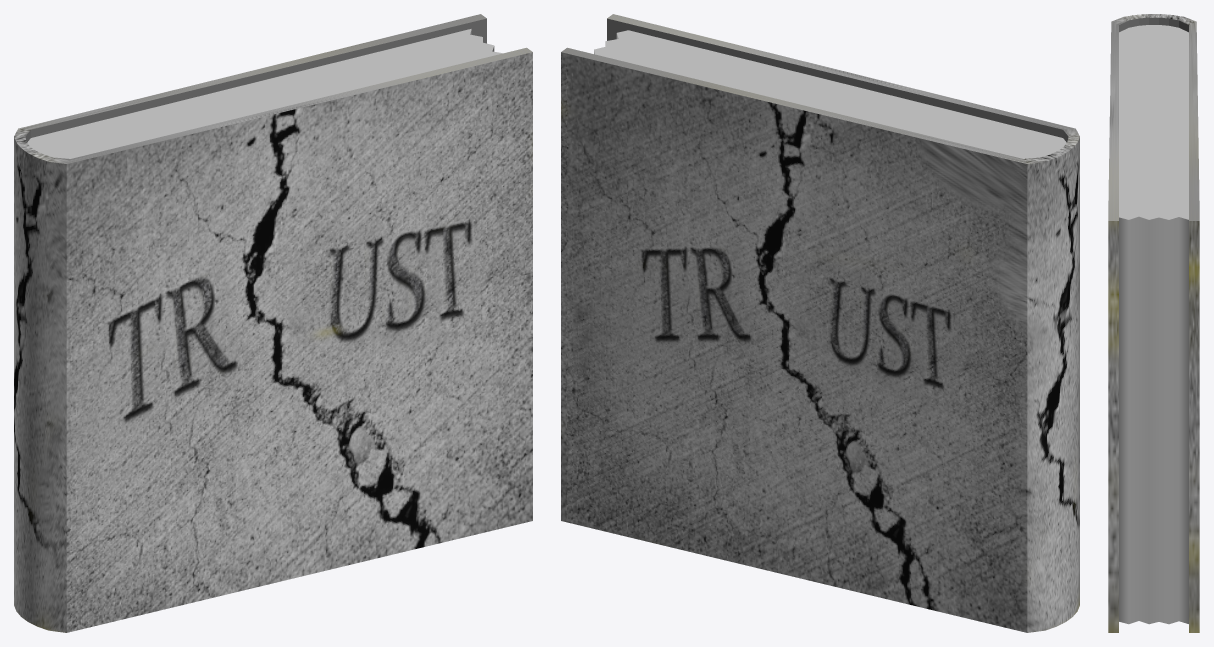
Rendered from Libro.FBX.
3 views of the same model, side by side, from view 1: azimuth 30°, elevation 25°; view 2: azimuth 150°, elevation 25°; view 3: azimuth 270°, elevation 25° (orthographic). The views are drawn at different scales.
Parts seen in each view (by area): view 1: Libro001; view 2: Libro001; view 3: Libro001.
Boxes of the visible parts, box(x1,y1,x2,y2) form: Libro001: box(14, 14, 532, 632); Libro001: box(561, 14, 1079, 632); Libro001: box(1108, 14, 1199, 632).
Size of the model in its own units: 8.33 by 7.73 by 1.56.
Materials: 1 (1 with a texture image).
